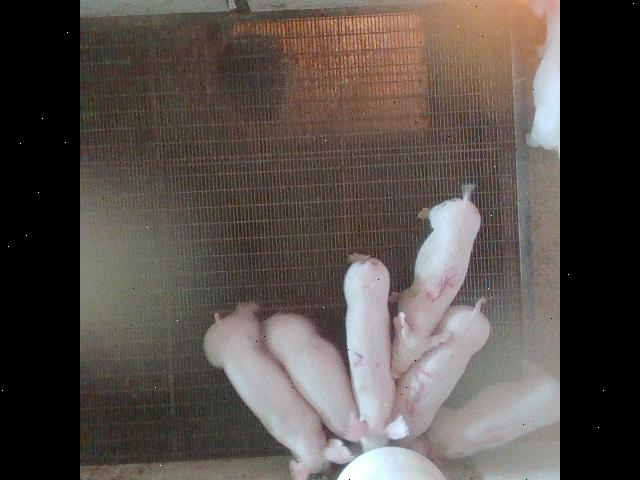pig-3: (392, 298, 490, 439)
pig-4: (410, 359, 559, 458)
pig-5: (391, 184, 481, 378)
